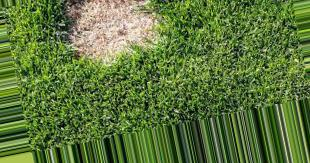patch: (71, 1, 164, 61)
